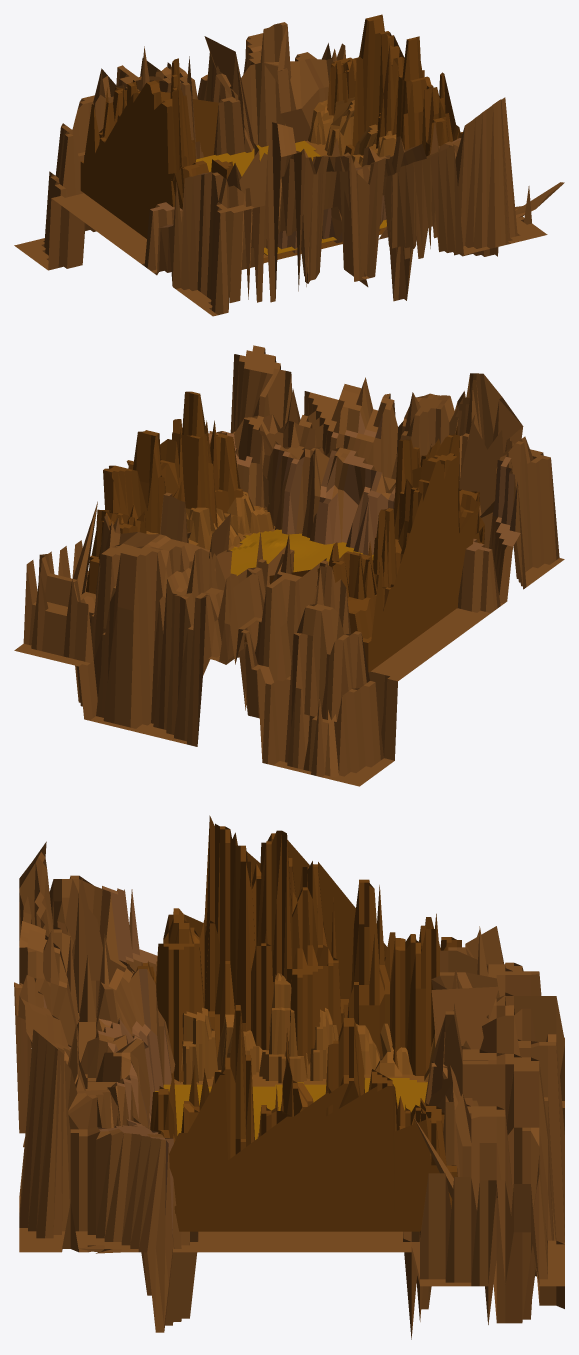
Rendered from poust2.fbx.
The picture shows the model from 3 angles, top to bottom: view 1: azimuth 30°, elevation 25°; view 2: azimuth 150°, elevation 25°; view 3: azimuth 270°, elevation 25°; orthographic projection. The views are drawn at different scales.
Visible parts, largest first — view 1: Plane.002, Plane.001, Plane; view 2: Plane.002, Plane.001, Plane; view 3: Plane.002, Plane.001, Plane.
Part boxes in pixels (x1,y1,x2,y2): Plane.002: [14, 22, 564, 316]; Plane.001: [80, 14, 462, 262]; Plane: [196, 97, 396, 257]; Plane.002: [14, 345, 564, 786]; Plane.001: [85, 391, 484, 672]; Plane: [146, 491, 373, 575]; Plane.002: [14, 841, 564, 1339]; Plane.001: [136, 815, 461, 1231]; Plane: [155, 973, 435, 1139].
Bounding box in the file's own units: 17096 × 10734 × 15638.
